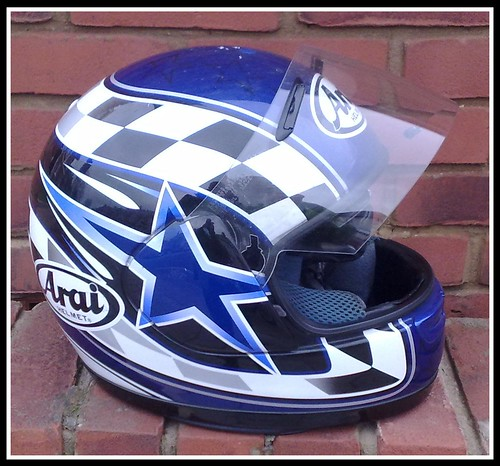helmet: (30, 31, 455, 423)
